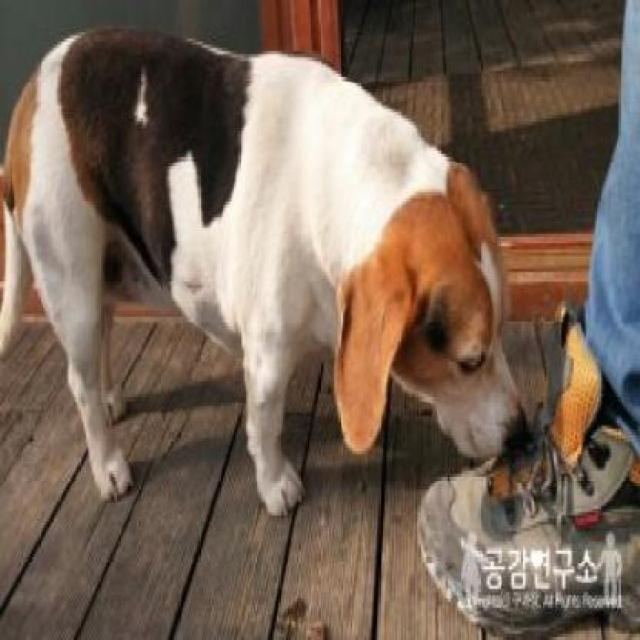Dog: (0, 17, 534, 532)
